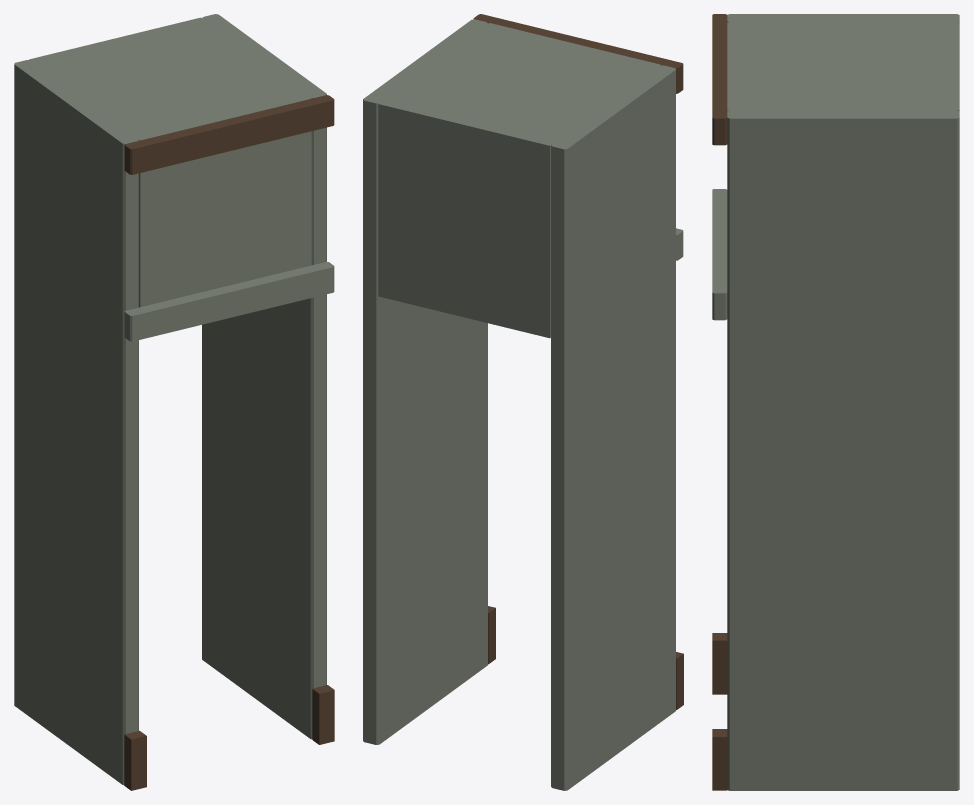
The model's file is door_stone.glb.
3 renders of one model, left to right at view 1: azimuth 30°, elevation 25°; view 2: azimuth 150°, elevation 25°; view 3: azimuth 270°, elevation 25°, orthographic. The views are drawn at different scales.
Visible parts, largest first — view 1: geometry; view 2: geometry; view 3: geometry.
Boxes of the visible parts, x1,y1,x2,y2 form: geometry: [14, 14, 334, 790]; geometry: [363, 14, 683, 790]; geometry: [712, 14, 959, 790].
Bounding box in the file's own units: 1 × 3 × 1.
